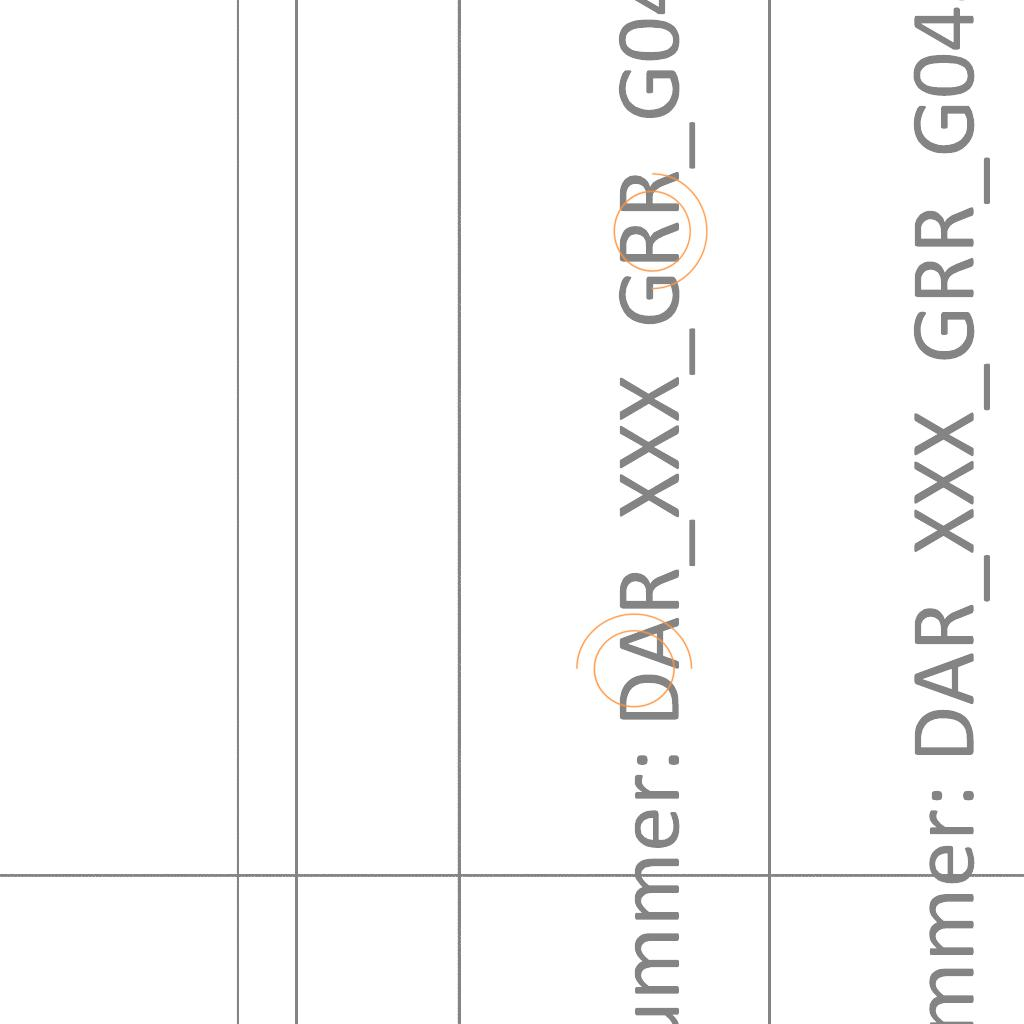Scheinwerfer_fuer_Alarmbeleuchtung: (601, 162, 713, 294), (565, 608, 697, 720)
